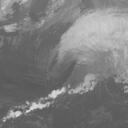cyclone: (45, 38, 100, 92)
